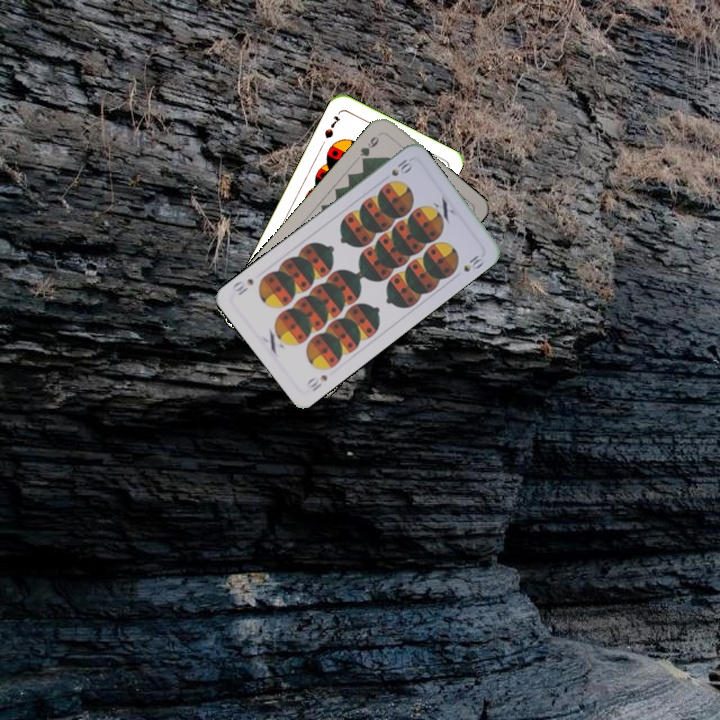G9: (356, 129, 384, 166)
S10: (302, 371, 330, 394), (387, 155, 413, 179)
S7: (320, 112, 343, 141)
